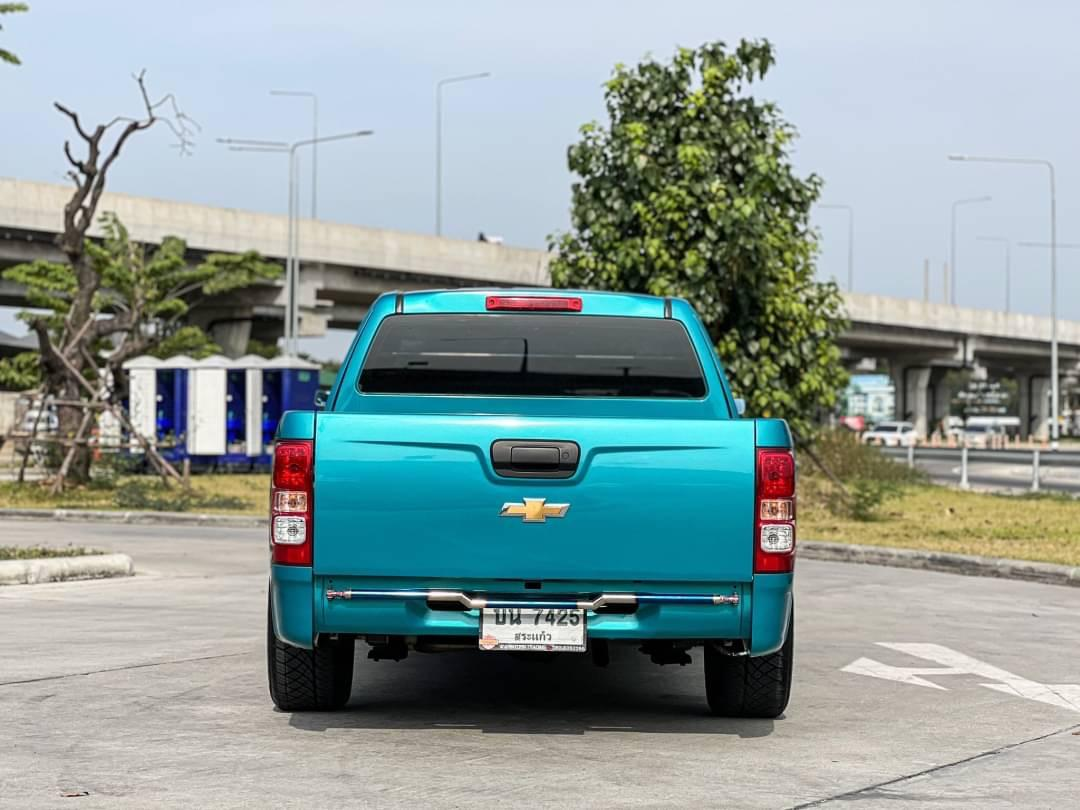license-plate: (475, 600, 591, 652)
